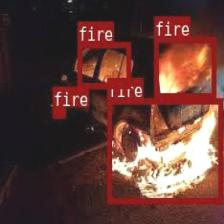fire: (107, 98, 222, 202), (154, 36, 215, 97), (78, 41, 130, 87), (53, 106, 65, 116)
